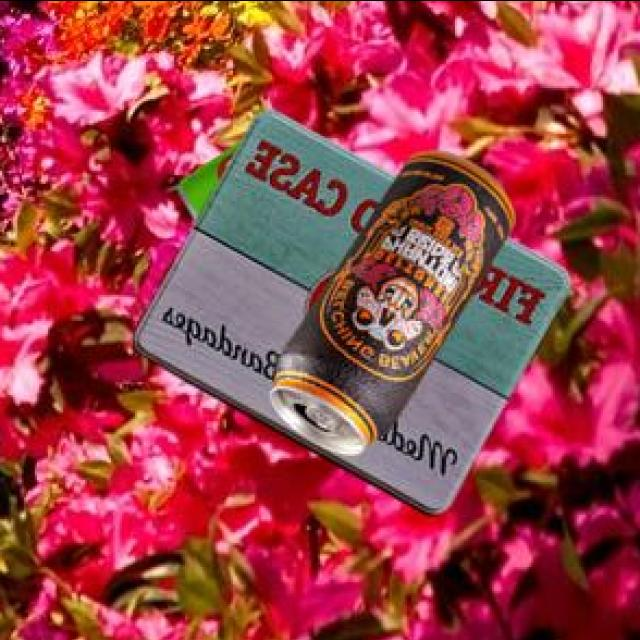logam: (130, 106, 567, 510), (267, 147, 510, 450), (175, 138, 238, 217)
